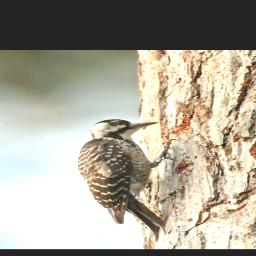Woodpecker: (75, 116, 179, 241)
